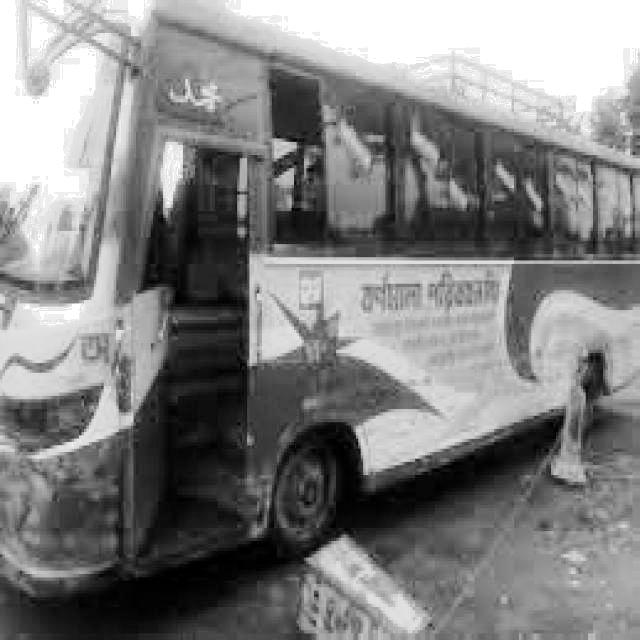Bus: (5, 0, 627, 627)
